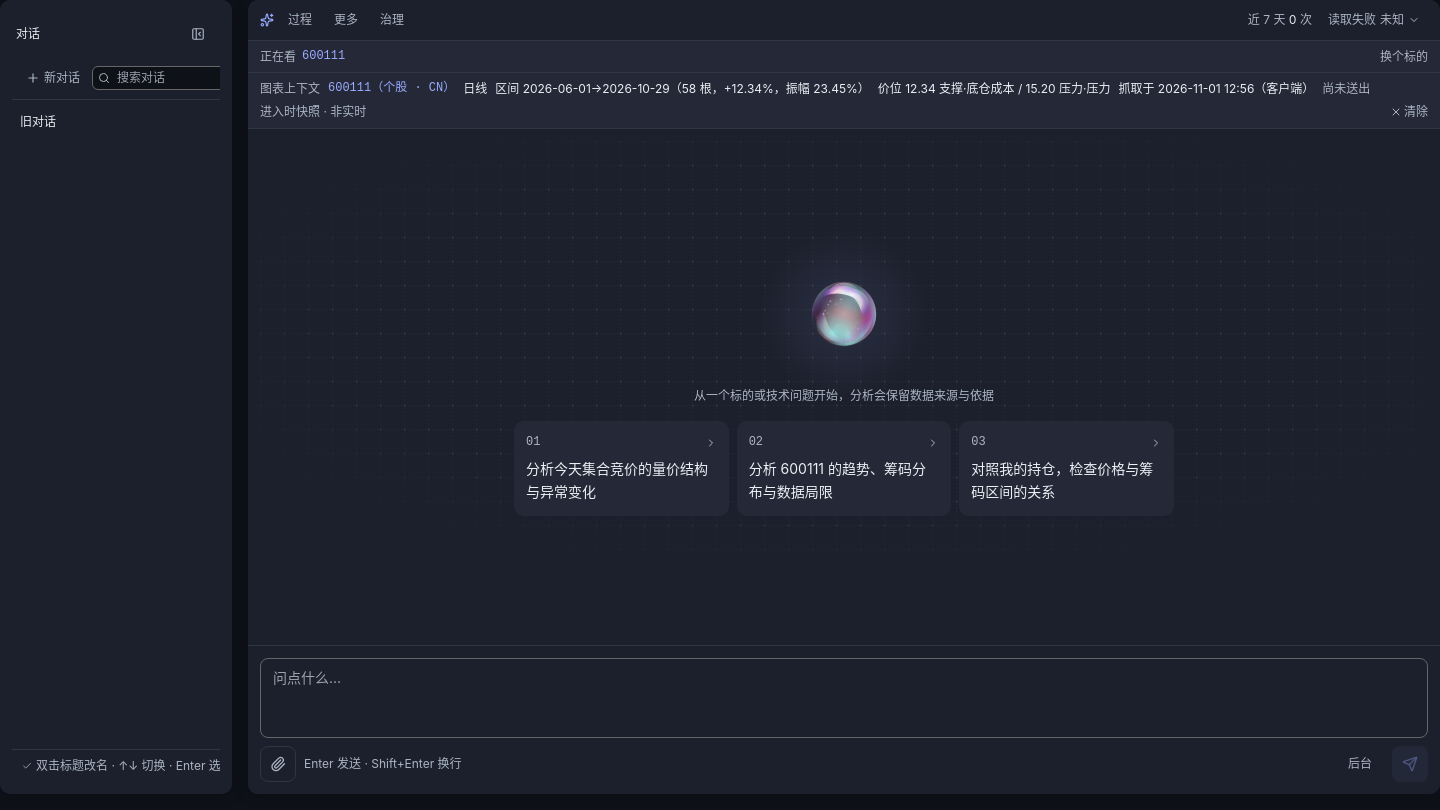
Scenario: 隔离与凭据边界 › 切到历史会话后不再把当前图的快照带进去
Expected: the element with test id "copilot-chart-context" is shown, [248,73,1439,129]
Click the button "旧对话".
click(126, 121)  # box [20,112,233,131]
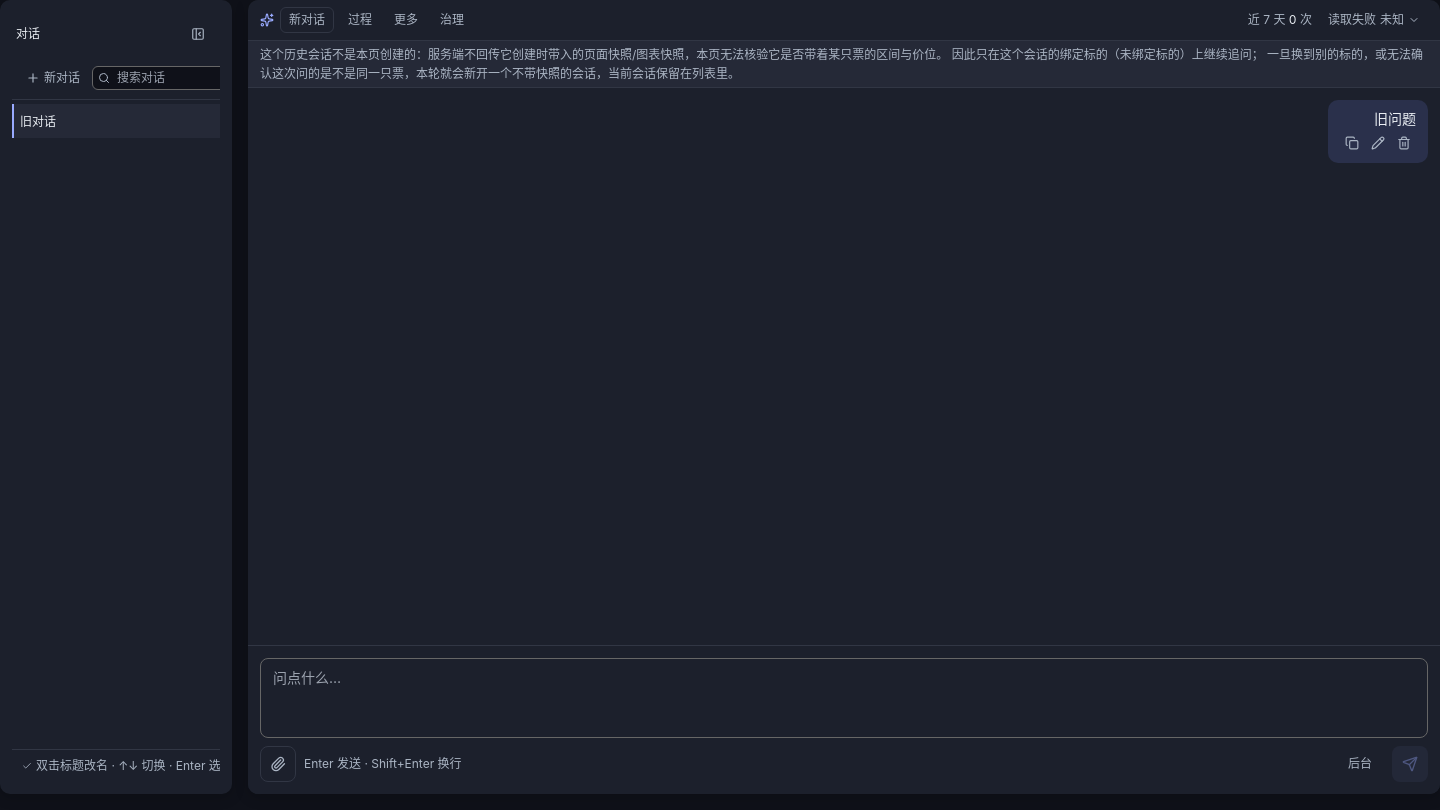
Expected: the element with test id "copilot-chart-context" is gone
Expected: the text with test id "copilot-chart-context-history-notice" shows "历史会话", [260,47,1108,62]
Expected: the text with test id "copilot-chart-context-history-notice" shows "无法核验", [260,47,1108,62]
Type "接着问" into the text box with placeholder "问点什么…".
click(844, 698); type("接着问")  # box [260,658,1428,738]
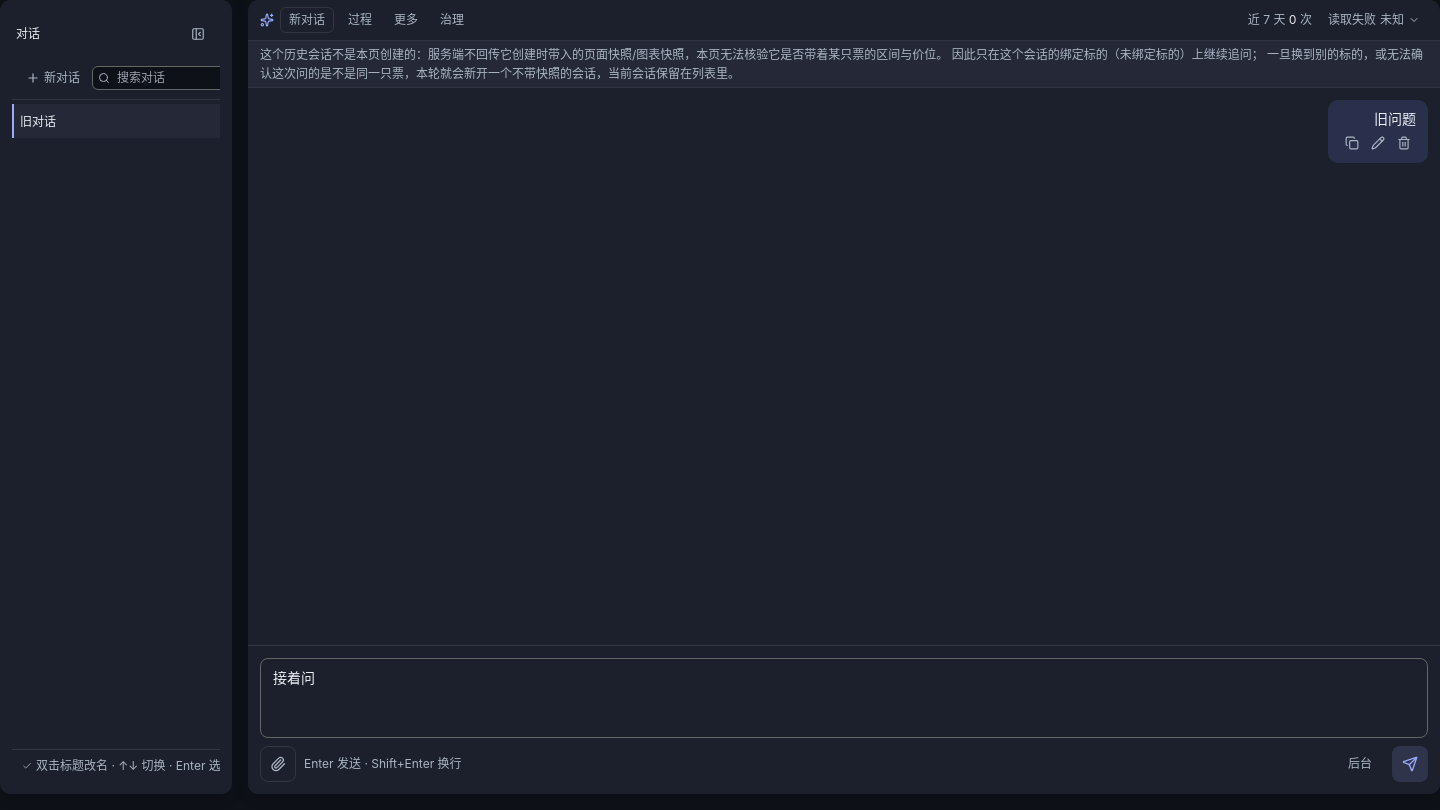
Click the button named "发送".
click(1410, 764)  # box [1392,746,1428,782]
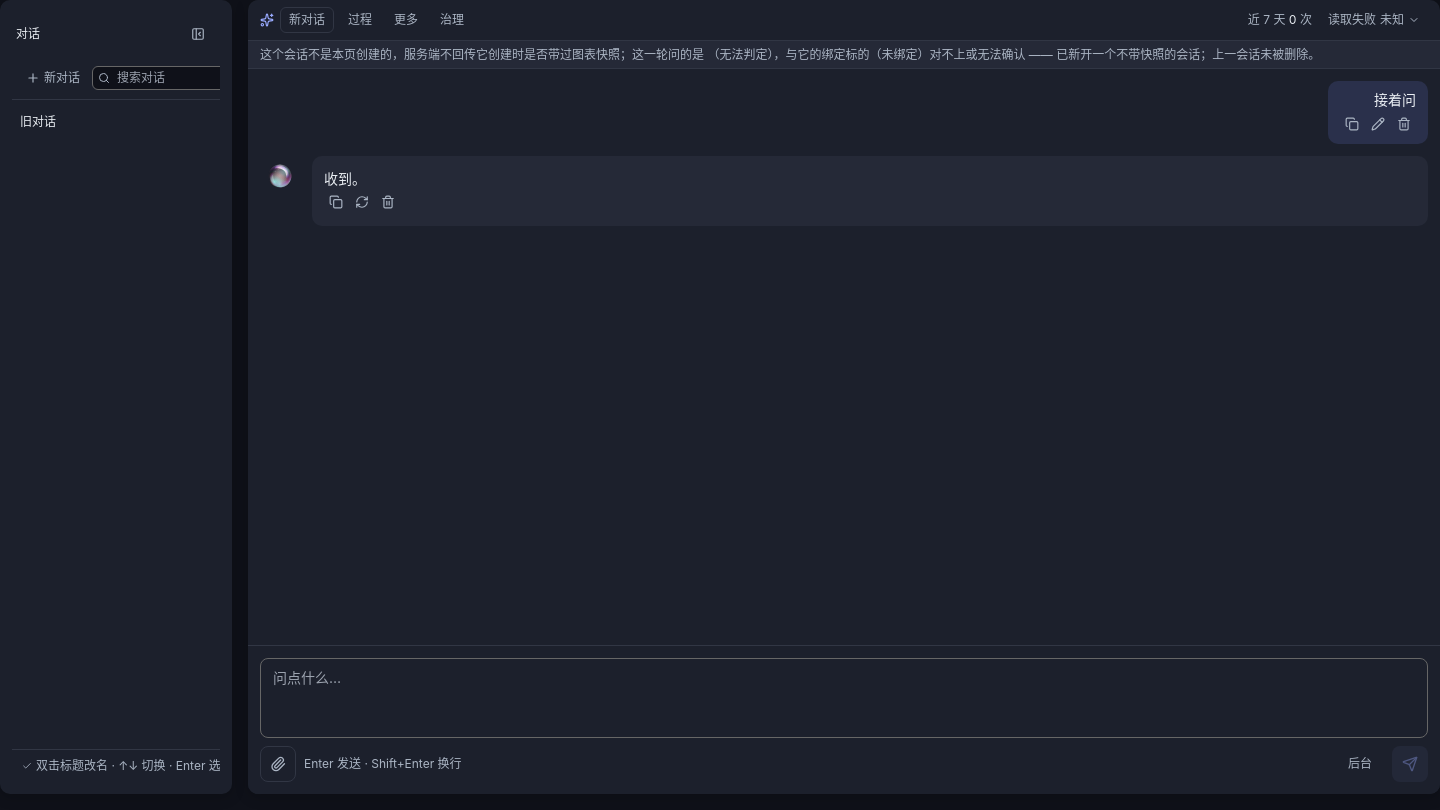
Expected: the text with test id "copilot-chart-context-notice" shows "新开", [248,41,1439,69]
